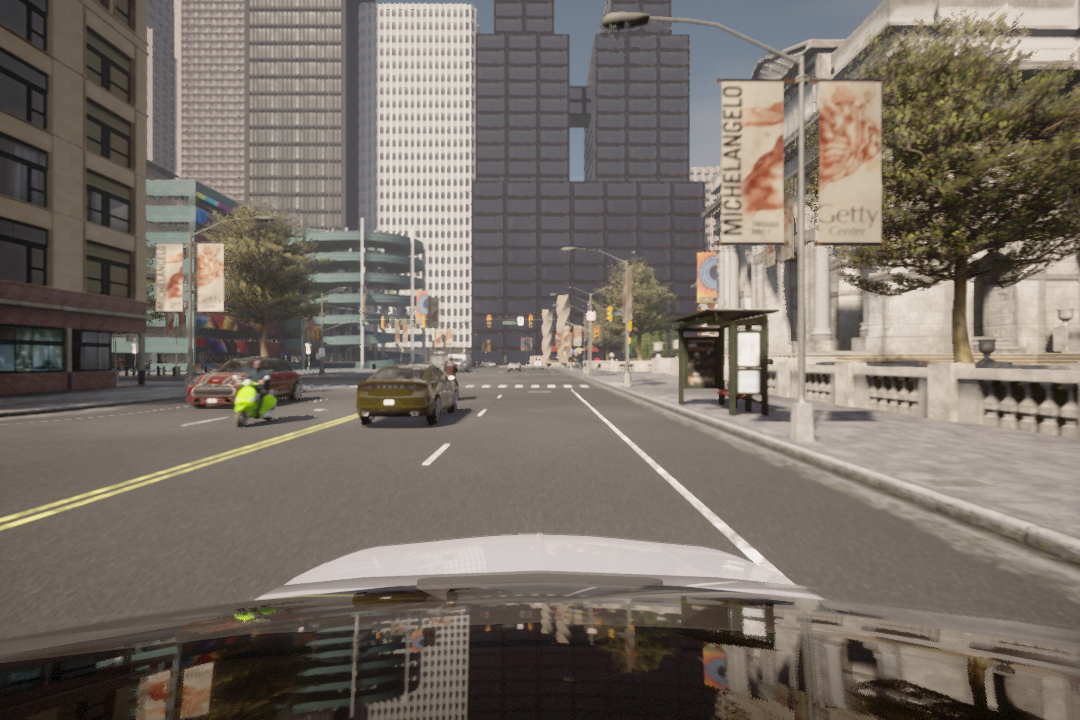walkside: (457, 382, 601, 391)
